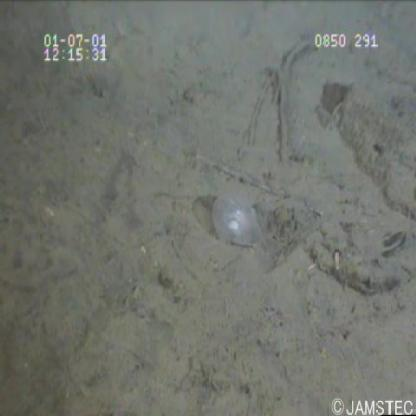Rác: (212, 184, 270, 255)
